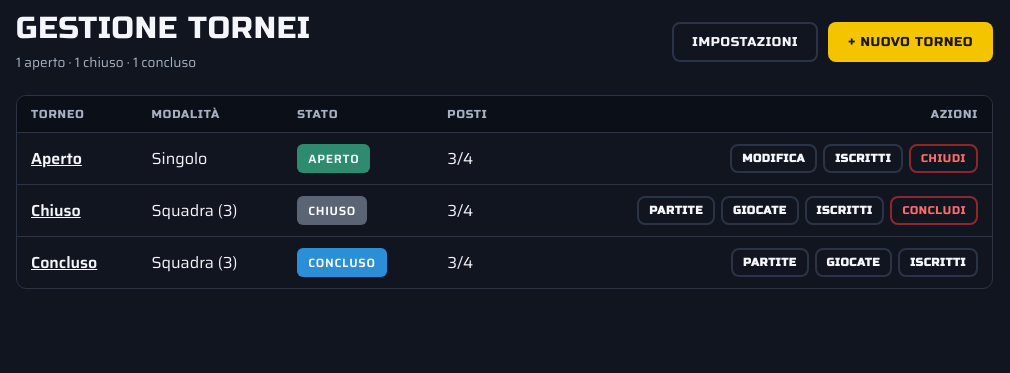
Test: GestioneTorneiComponent › chiude un torneo dopo la conferma e ricarica la lista
Click the button "Chiudi" at (944, 158), box [909,144,978,173]
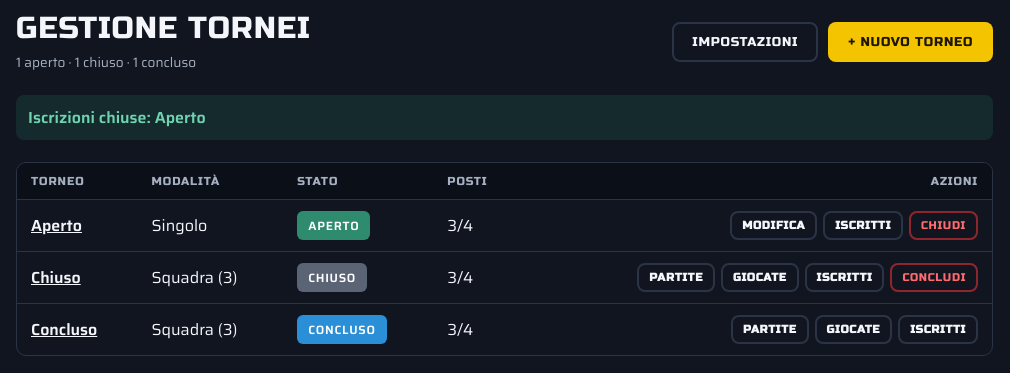
Expected: the text "Iscrizioni chiuse: Aperto" is shown, [16,95,993,140]
